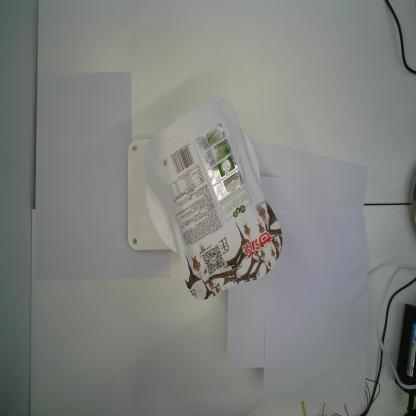Dried Fruit: (143, 96, 283, 301)
